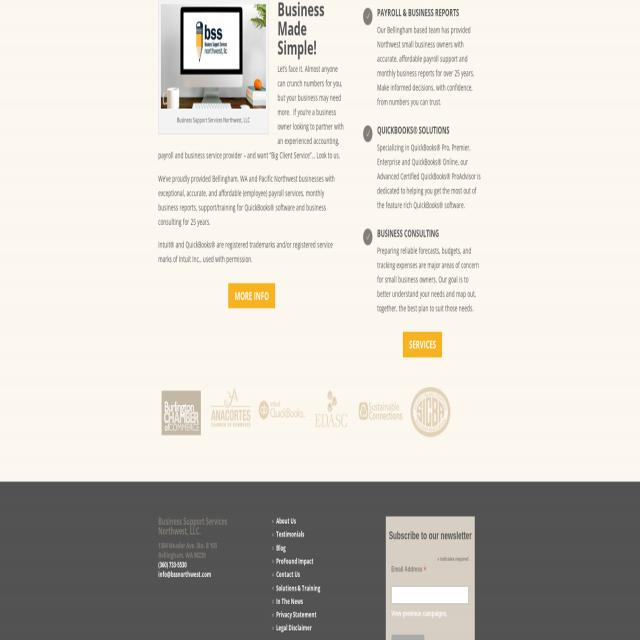button: (160, 4, 266, 109), (408, 387, 454, 438), (158, 387, 203, 438), (208, 387, 254, 431), (310, 387, 352, 429), (258, 387, 304, 423), (357, 387, 403, 423), (228, 282, 276, 308), (402, 332, 442, 358), (363, 125, 373, 142), (363, 228, 373, 245), (363, 8, 373, 24)
field: (391, 586, 469, 604)
